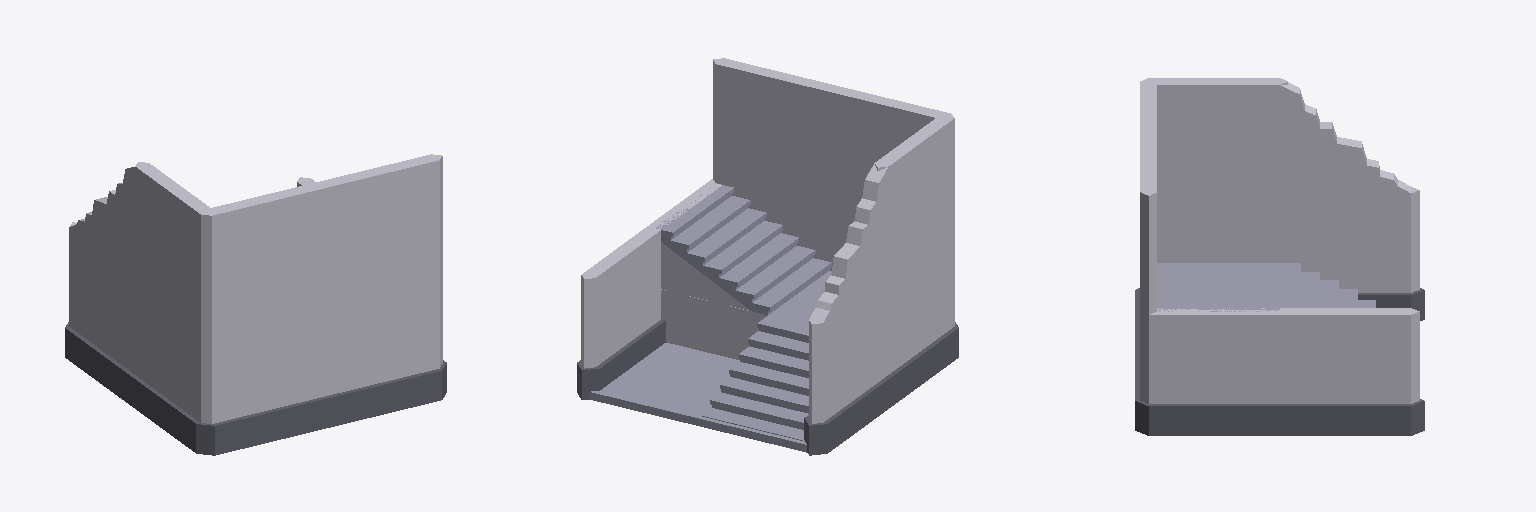
File: corner_stair_01.obj
The picture shows the model from 3 angles: view 1: azimuth 30°, elevation 25°; view 2: azimuth 150°, elevation 25°; view 3: azimuth 270°, elevation 25°; orthographic projection.
Parts seen in each view (by area): view 1: wall_corner_39, corner_01_24, wall_straight_41, corner_01_25, wall_01_27, wall_ruined_42; view 2: wall_corner_39, wall_straight_41, stairs_07_34, wall_01_26, wall_01_27, corner_01_24, stairs_07_28, floor_01_23, wall_ruined_42, raised_floor_01_33, corner_01_25, block_default_44; view 3: wall_01_26, corner_01_25, wall_corner_39, wall_01_27, wall_ruined_42, corner_01_24, block_default_44, wall_straight_41, stairs_07_28, stairs_07_34.
Part boxes in pixels (bbox=[...]): wall_corner_39: bbox=[135, 162, 326, 334]; corner_01_24: bbox=[131, 286, 327, 455]; wall_straight_41: bbox=[315, 154, 442, 306]; corner_01_25: bbox=[322, 275, 446, 427]; wall_01_27: bbox=[65, 237, 134, 405]; wall_ruined_42: bbox=[69, 165, 145, 284]; wall_corner_39: bbox=[829, 86, 954, 284]; wall_straight_41: bbox=[713, 58, 840, 210]; stairs_07_34: bbox=[656, 185, 831, 314]; wall_01_26: bbox=[577, 225, 665, 399]; wall_01_27: bbox=[804, 286, 892, 455]; corner_01_24: bbox=[830, 211, 958, 405]; stairs_07_28: bbox=[701, 316, 808, 441]; floor_01_23: bbox=[589, 343, 806, 452]; wall_ruined_42: bbox=[809, 162, 888, 334]; raised_floor_01_33: bbox=[661, 289, 767, 359]; corner_01_25: bbox=[649, 179, 829, 261]; block_default_44: bbox=[768, 271, 831, 324]; wall_01_26: bbox=[1272, 308, 1424, 435]; corner_01_25: bbox=[1135, 308, 1287, 435]; wall_corner_39: bbox=[1140, 78, 1287, 203]; wall_01_27: bbox=[1280, 201, 1424, 320]; wall_ruined_42: bbox=[1279, 82, 1419, 203]; corner_01_24: bbox=[1135, 204, 1279, 346]; block_default_44: bbox=[1157, 263, 1279, 301]; wall_straight_41: bbox=[1140, 134, 1156, 314]; stairs_07_28: bbox=[1280, 263, 1375, 307]; stairs_07_34: bbox=[1157, 302, 1279, 311].
Size of the model in its own units: 2.21 by 2 by 2.21.